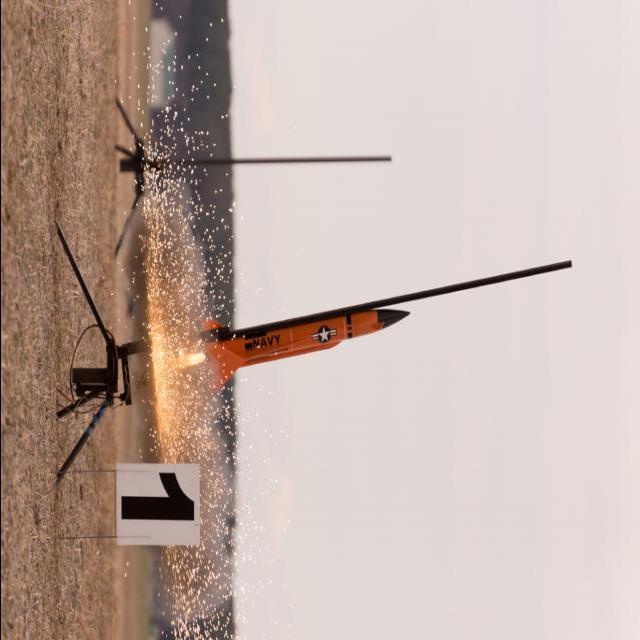missile: (194, 296, 407, 378)
